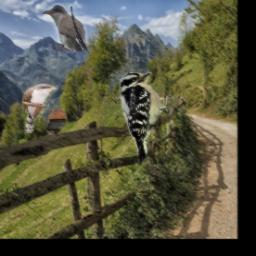Cuckoo: (43, 4, 87, 52), (23, 84, 58, 133)
Woodpecker: (119, 70, 175, 167)
